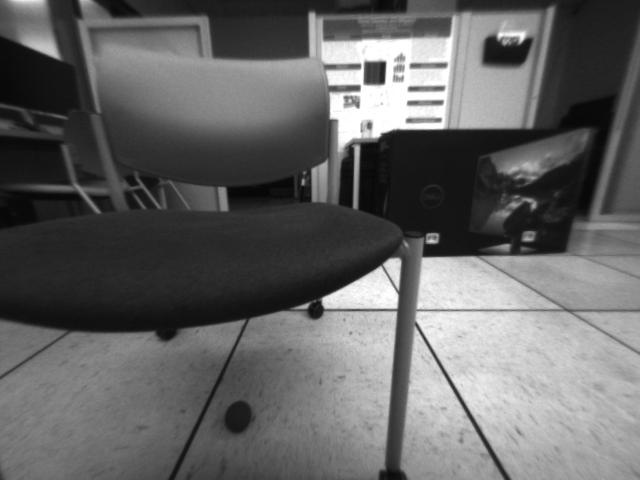dogtoy: (217, 392, 257, 438)
